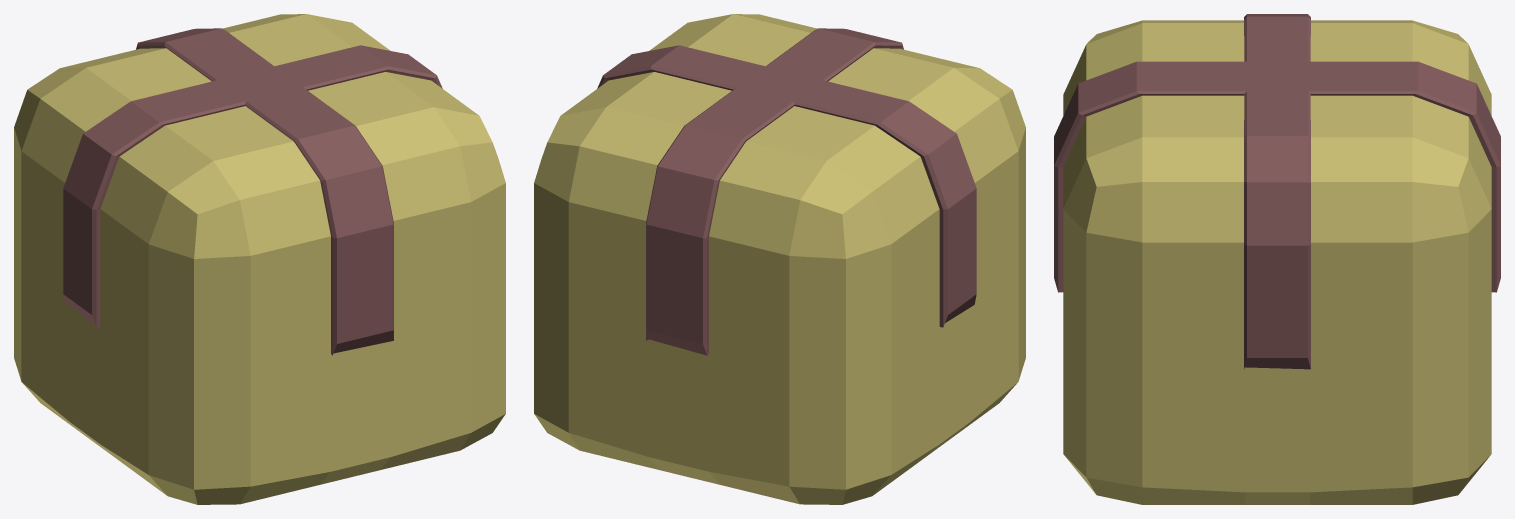
The picture shows the model from 3 angles, left to right: view 1: azimuth 30°, elevation 25°; view 2: azimuth 150°, elevation 25°; view 3: azimuth 270°, elevation 25°; orthographic projection. The views are drawn at different scales.
Visible parts, largest first — view 1: Cube; view 2: Cube; view 3: Cube.
Part boxes in pixels (x1,y1,x2,y2): Cube: [14, 14, 505, 504]; Cube: [534, 14, 1025, 504]; Cube: [1054, 14, 1500, 504].
Bounding box in the file's own units: 209 × 185 × 209.
